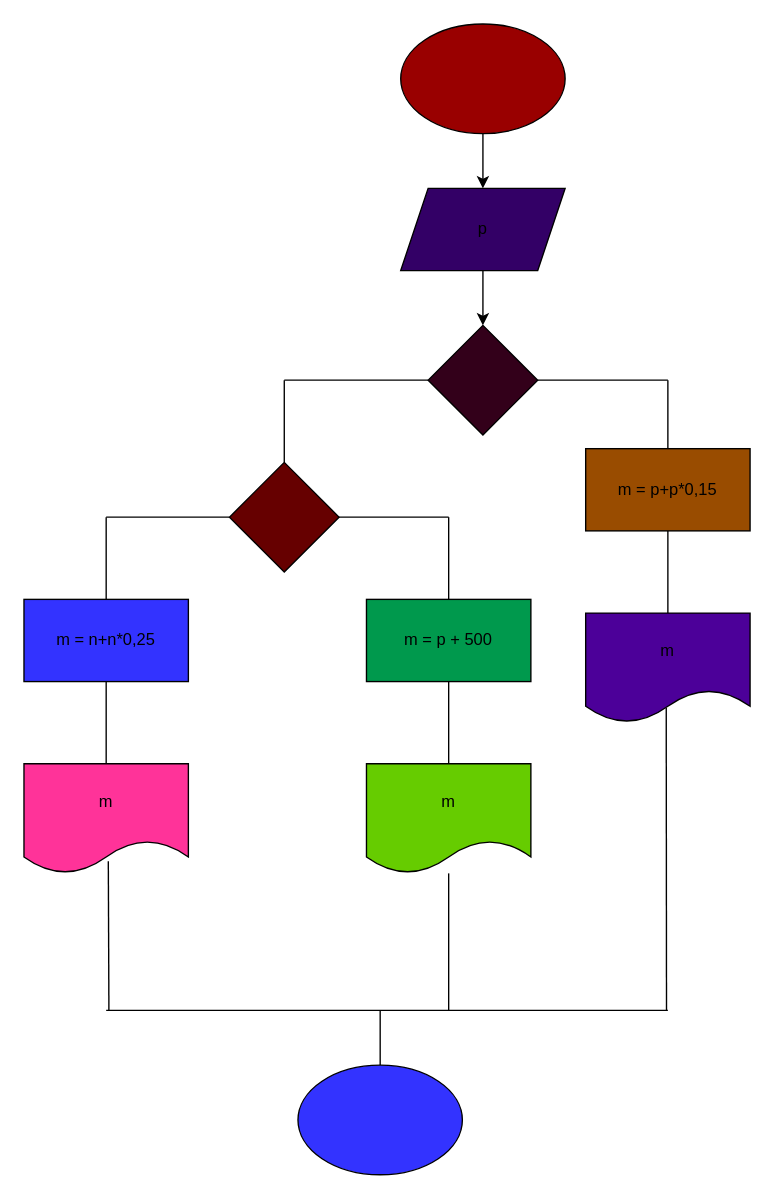
The diagram is 774 pixels wide and 1199 high, and some of its shapes have lost their labels. The box of each missing label's shape, as (x1, y1, x2, y2) in pixels:
FIN: (297, 1064, 462, 1175)
INICIO: (399, 23, 565, 134)
p < 3000: (427, 324, 538, 435)
p <=6000: (228, 461, 339, 572)
